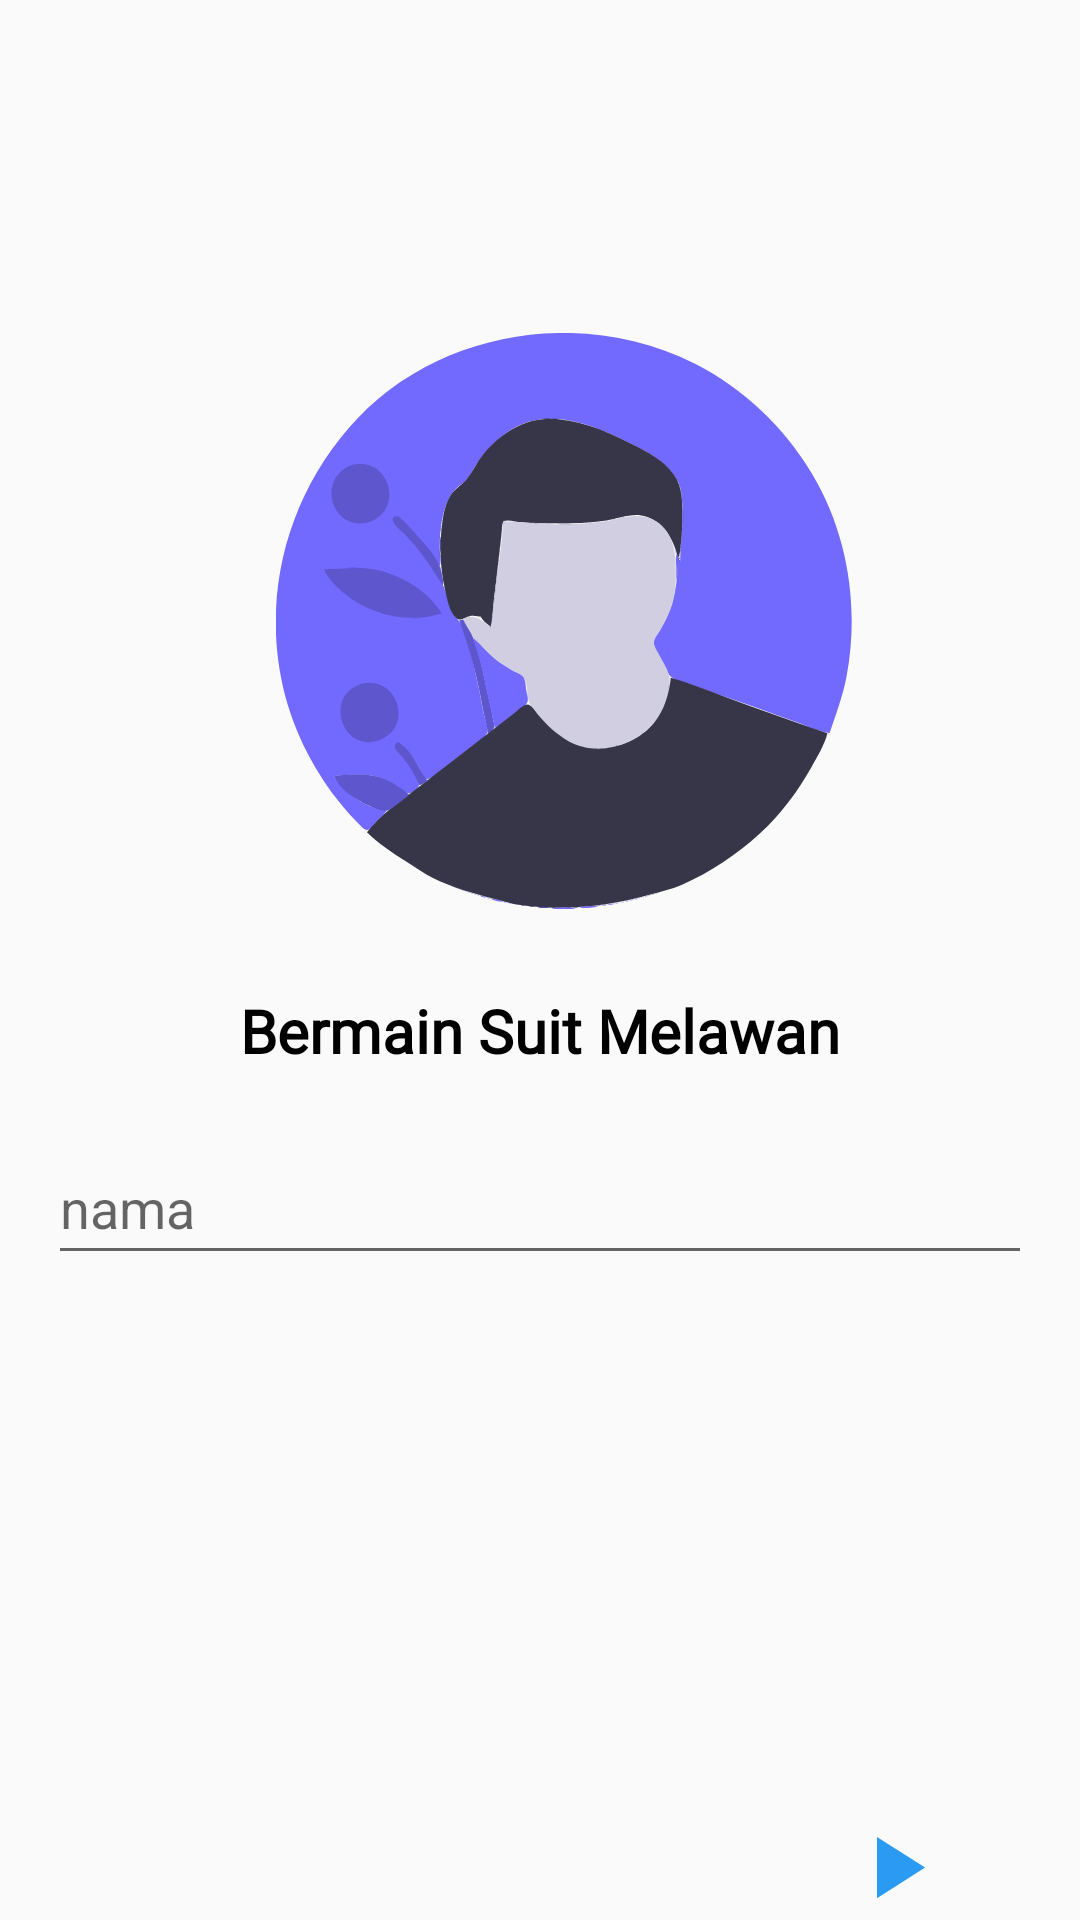

Screen size 1080*1920. Icon name, then its box in pixels as (x1, y1, x2, y2):
next: (877, 1837, 925, 1898)
